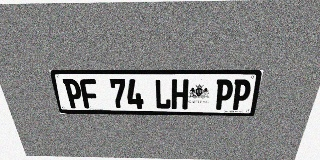4: (126, 79, 144, 109)
7: (108, 79, 128, 109)
F: (79, 79, 100, 108)
H: (171, 79, 189, 109)
L: (154, 79, 171, 109)
P: (230, 79, 252, 110), (62, 79, 84, 108), (214, 79, 234, 110)
